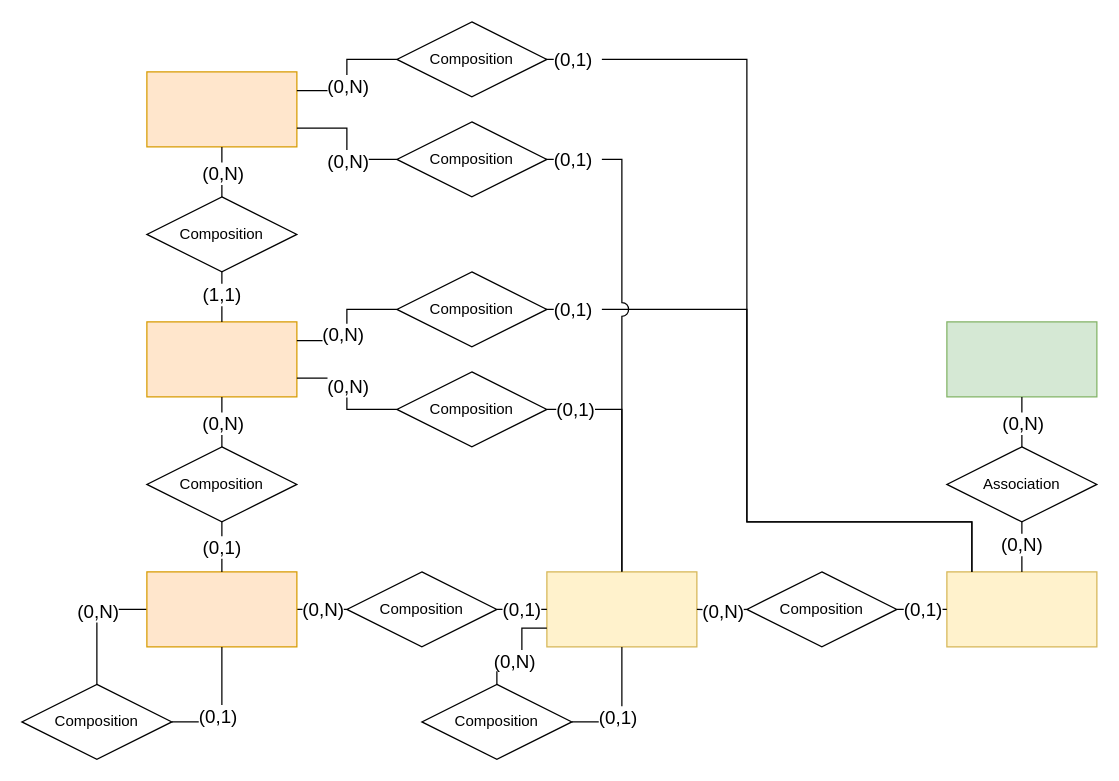
This 1119x781 diagram has some shape labels left out. Each missing label, with the centre of its shape:
"Container" goes at (x=621, y=609).
"Inventory" goes at (x=221, y=109).
"Item" goes at (x=1021, y=609).
"Label" goes at (x=1021, y=359).
"Site" goes at (x=221, y=359).
"Spot" goes at (x=221, y=609).
